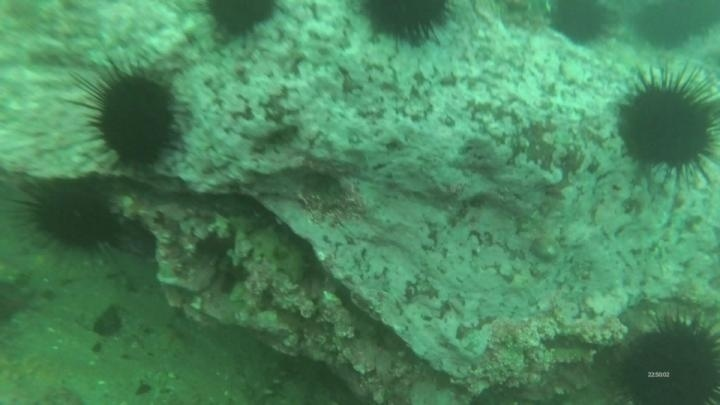echinus: (73, 60, 186, 175), (613, 67, 719, 185), (612, 310, 720, 405), (19, 180, 126, 256), (358, 1, 456, 48), (630, 2, 716, 53), (202, 1, 282, 41), (547, 2, 613, 47)
holothurian: (236, 221, 313, 289)
